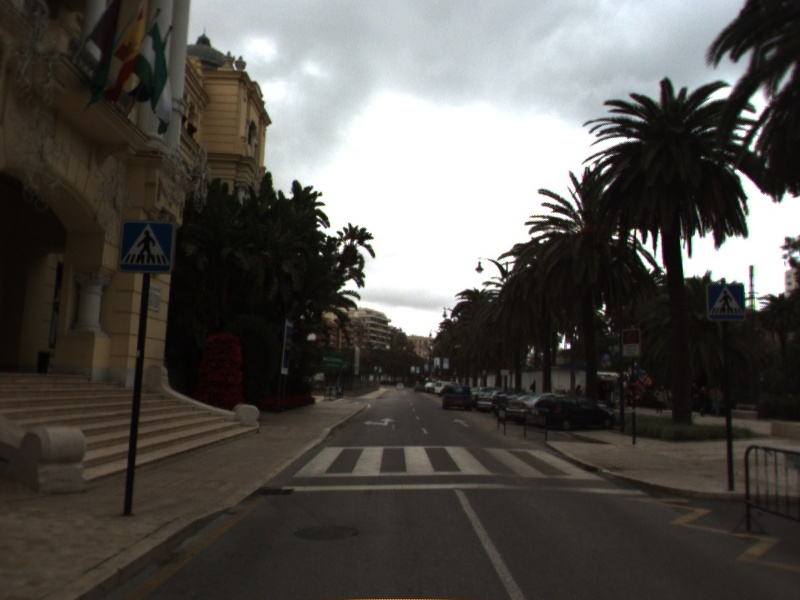STRAIGHT: (451, 416, 471, 429)
STRAIGHT_LEFT: (361, 415, 397, 428)
